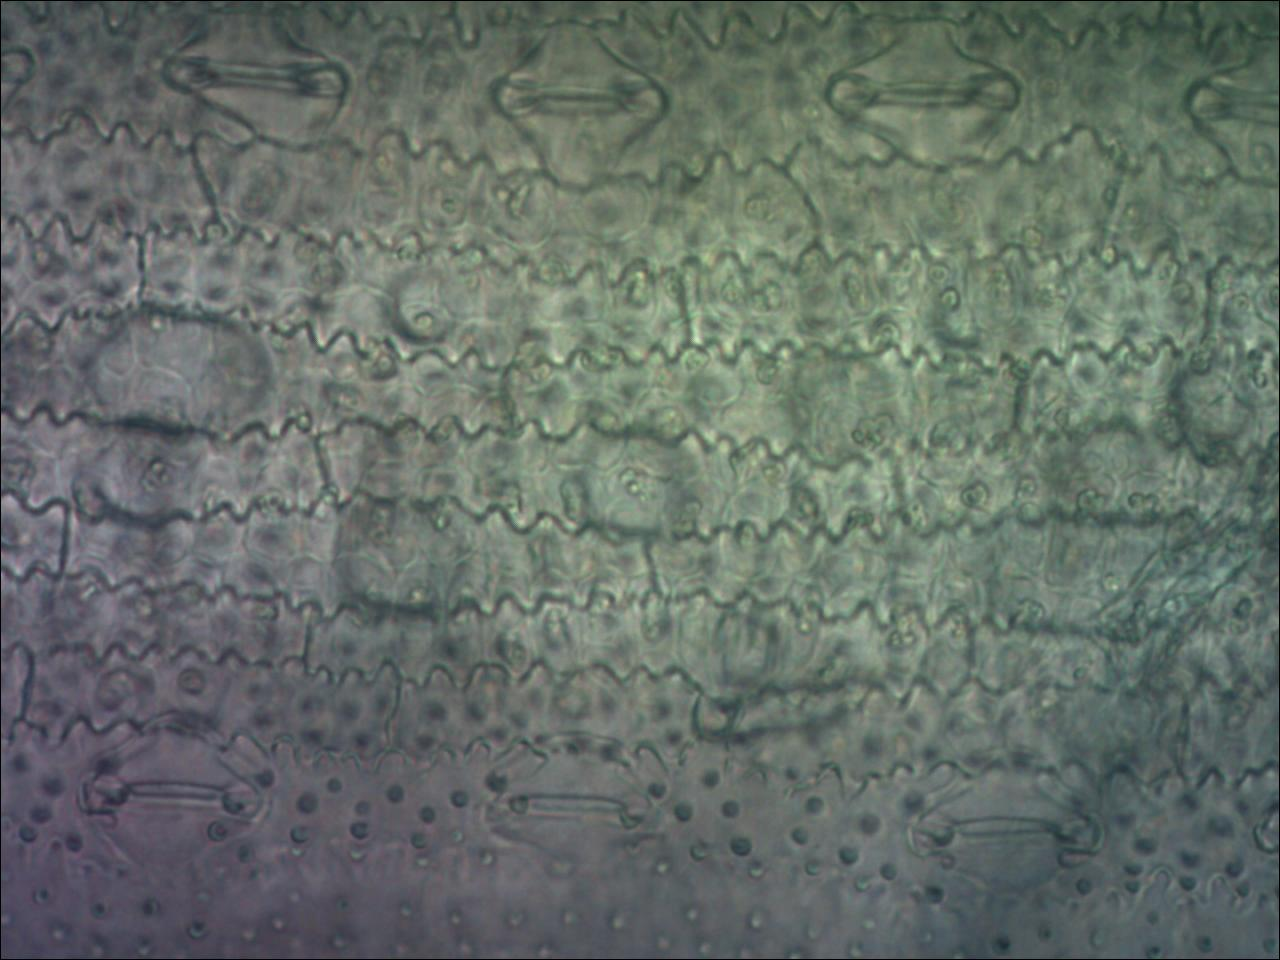stoma: (492, 19, 674, 179), (828, 20, 1016, 167), (79, 728, 263, 873), (161, 13, 356, 148), (907, 775, 1100, 899), (485, 749, 667, 869), (1192, 35, 1280, 182), (1, 15, 36, 117)
